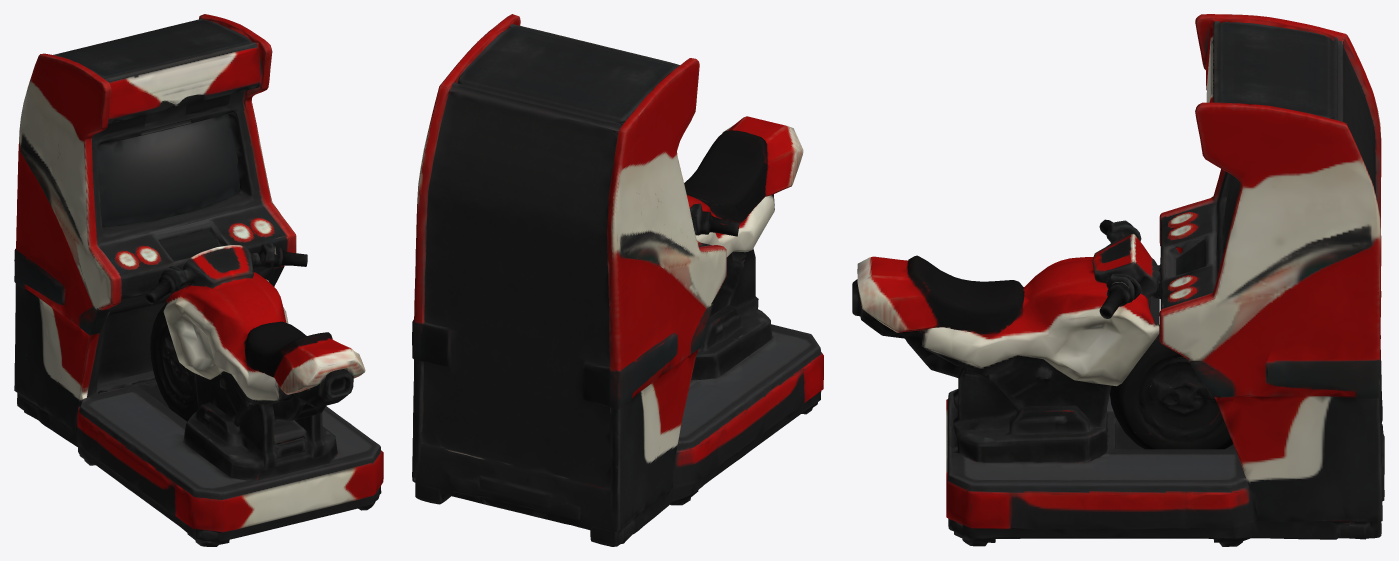
Rendered from 12_arcade_12_motorcycle_rideon.glb.
3 views of the same model, side by side, from view 1: azimuth 30°, elevation 25°; view 2: azimuth 150°, elevation 25°; view 3: azimuth 270°, elevation 25° (orthographic). The views are drawn at different scales.
Parts seen in each view (by area): view 1: world; view 2: world; view 3: world.
Part boxes in pixels (x1,y1,x2,y2): world: [14, 14, 383, 546]; world: [412, 14, 823, 546]; world: [852, 14, 1384, 546].
Bounding box in the file's own units: 0.4715 × 0.9154 × 1.
Materials: 1 (1 with a texture image).
